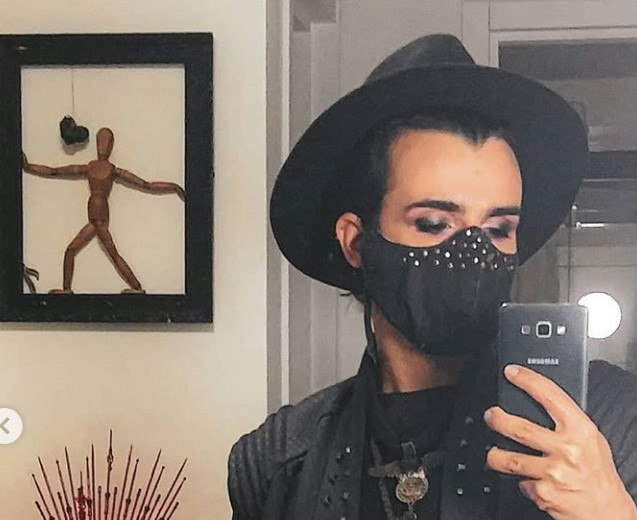face_with_mask: (339, 102, 535, 359)
